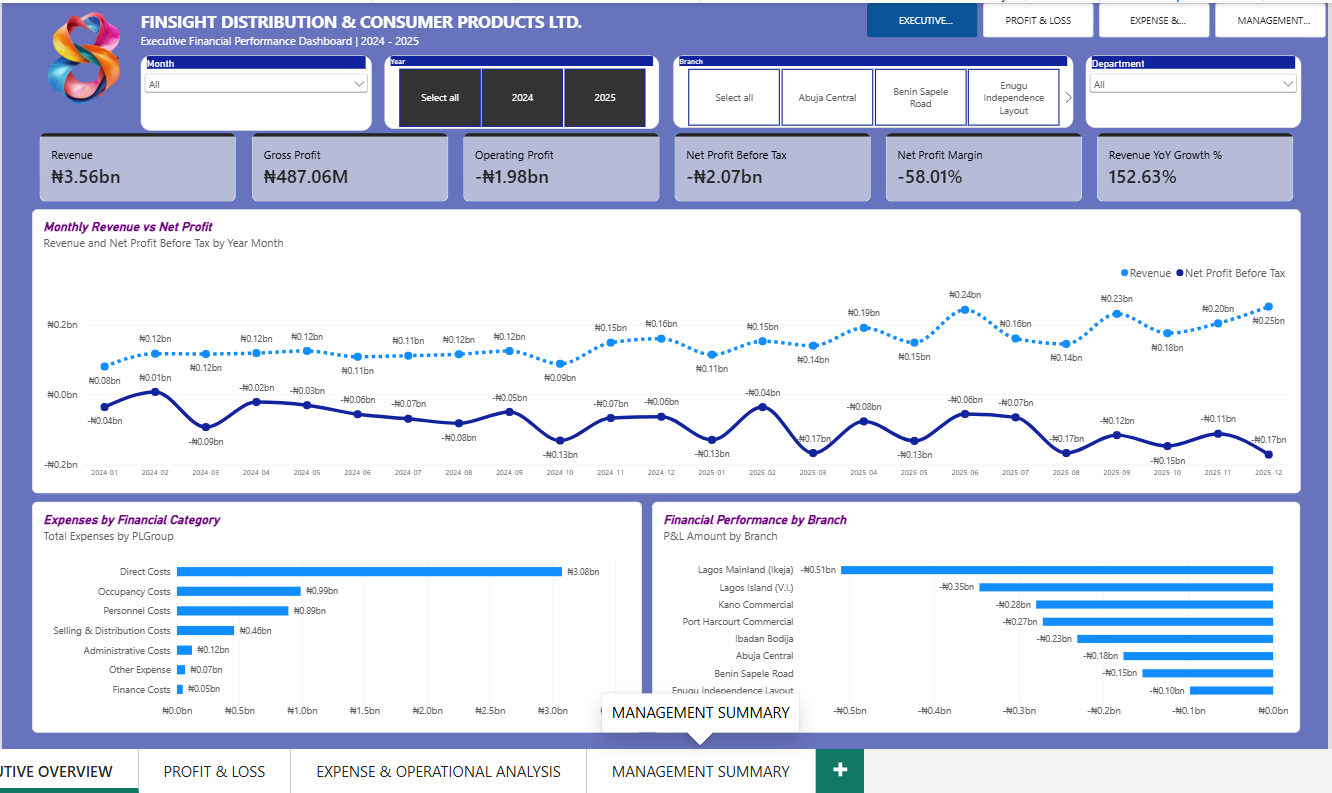

The page's visual inventory and layout, read from the dashboard file:
{"tool":"powerbi","page":{"name":"EXECUTIVE OVERVIEW","canvas":[1920,1080],"ordinal":0},"visuals":[{"type":"textbox","box":[200,10.9,726.6,65.6],"z":0},{"type":"cardVisual","fields":{"Data":["FinancialTransactions.Total Revenue"]},"box":[44.2,176.9,306.1,121.2],"z":1000},{"type":"lineChart","title":"Monthly Revenue vs Net Profit","fields":{"Category":["Date.Year Month"],"Y":["FinancialTransactions.Total Revenue","FinancialTransactions.Net Profit Before Tax"]},"box":[43.5,297.8,1837,410.9],"z":2000},{"type":"cardVisual","fields":{"Data":["FinancialTransactions.Gross Profit"]},"box":[350.5,176.9,306.1,121.5],"z":3000},{"type":"clusteredBarChart","title":"Expenses by Financial Category","fields":{"Category":["Account.PLGroup"],"Y":["FinancialTransactions.Total Expenses"]},"box":[43.7,721.8,883.4,334.8],"z":4000},{"type":"cardVisual","fields":{"Data":["FinancialTransactions.Operating Profit"]},"box":[656.7,176.9,306.1,121.5],"z":5000},{"type":"clusteredBarChart","title":"Financial Performance by Branch","fields":{"Category":["Branch.BranchName"],"Y":["FinancialTransactions.P&L Amount"]},"box":[941.3,721.8,938.4,334],"z":6000},{"type":"cardVisual","fields":{"Data":["FinancialTransactions.Net Profit Before Tax"]},"box":[963,176.9,306.1,121.5],"z":7000},{"type":"slicer","fields":{"Values":["Date.Year"]},"box":[553.7,76.1,397.6,106.8],"z":8000,"group":"g1"},{"type":"cardVisual","fields":{"Data":["FinancialTransactions.Net Profit Margin"]},"box":[1269.3,176.9,306.1,121.5],"z":8000},{"type":"slicer","fields":{"Values":["Branch.BranchName"]},"box":[970.4,76.1,579.3,104.9],"z":10000,"group":"g1"},{"type":"slicer","fields":{"Values":["Department.DepartmentName"]},"box":[1568.8,76.1,311.6,104.9],"z":11000,"group":"g1"},{"type":"cardVisual","fields":{"Data":["FinancialTransactions.Revenue YoY Growth %"]},"box":[1574.6,176.9,306.1,121.2],"z":11000},{"type":"pageNavigator","box":[1252.2,0,667.4,50],"z":12000},{"type":"slicer","fields":{"Values":["Date.Month"]},"box":[200,76.1,334.6,108.7],"z":13000,"group":"g1"},{"type":"group","id":"g1","title":"Group 1","box":[200,76.1,1680.4,108.7],"z":13000},{"type":"image","box":[29.7,0,182.8,162.5],"z":14000}]}

Visuals, with their boxes in screenshot pixels (x1, y1, x2, y2):
textbox: 144 14 641 59
cardVisual - FinancialTransactions.Total Revenue: 37 128 247 211
"Monthly Revenue vs Net Profit" lineChart: 37 211 1294 492
cardVisual - FinancialTransactions.Gross Profit: 247 128 456 211
"Expenses by Financial Category" clusteredBarChart: 37 501 641 730
cardVisual - FinancialTransactions.Operating Profit: 456 128 666 211
"Financial Performance by Branch" clusteredBarChart: 651 501 1293 729
cardVisual - FinancialTransactions.Net Profit Before Tax: 666 128 875 211
slicer - Date.Year: 386 59 658 132
cardVisual - FinancialTransactions.Net Profit Margin: 875 128 1085 211
slicer - Branch.BranchName: 671 59 1067 131
slicer - Department.DepartmentName: 1080 59 1293 131
cardVisual - FinancialTransactions.Revenue YoY Growth %: 1084 128 1294 211
pageNavigator: 864 7 1320 41
slicer - Date.Month: 144 59 373 133
"Group 1" group: 144 59 1293 133
image: 27 7 152 118
